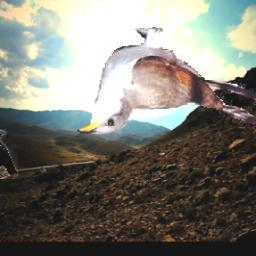Crow: (0, 129, 17, 179)
Cuckoo: (76, 26, 256, 135)
